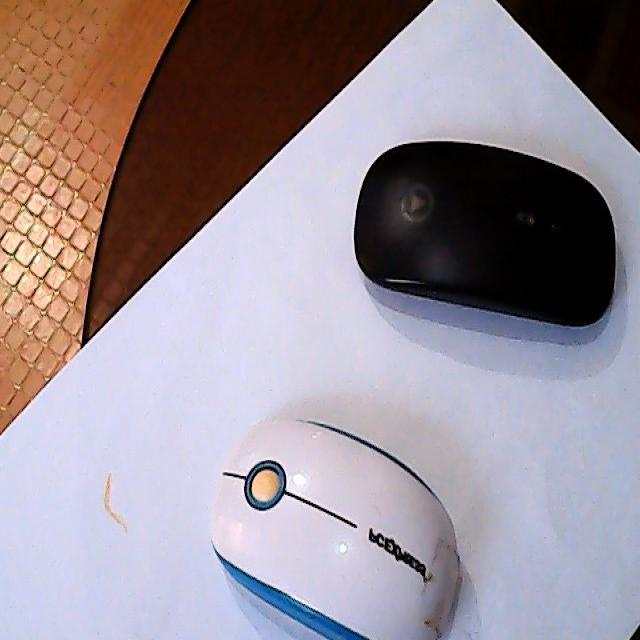mouse: (187, 432, 486, 640), (341, 143, 621, 356)
